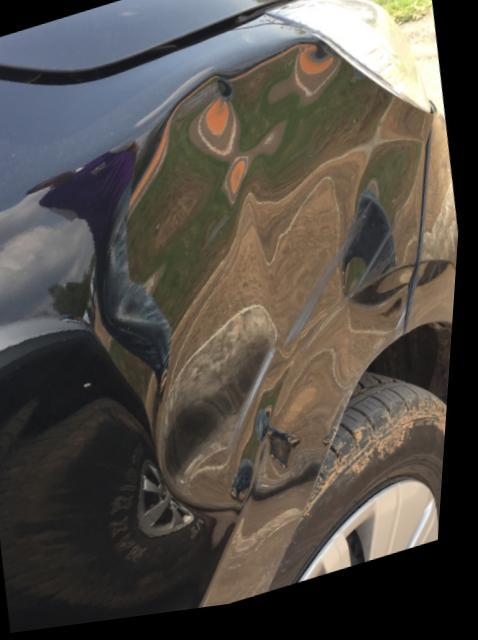dent: (96, 50, 432, 519)
